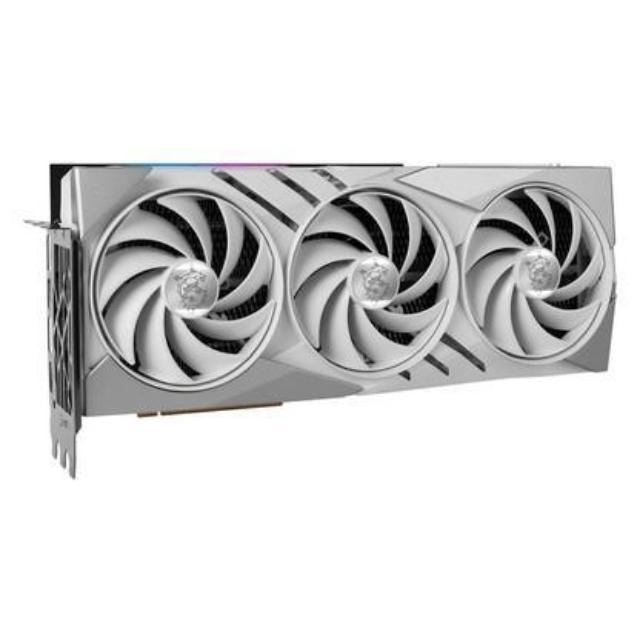GPU: (42, 138, 633, 460)
